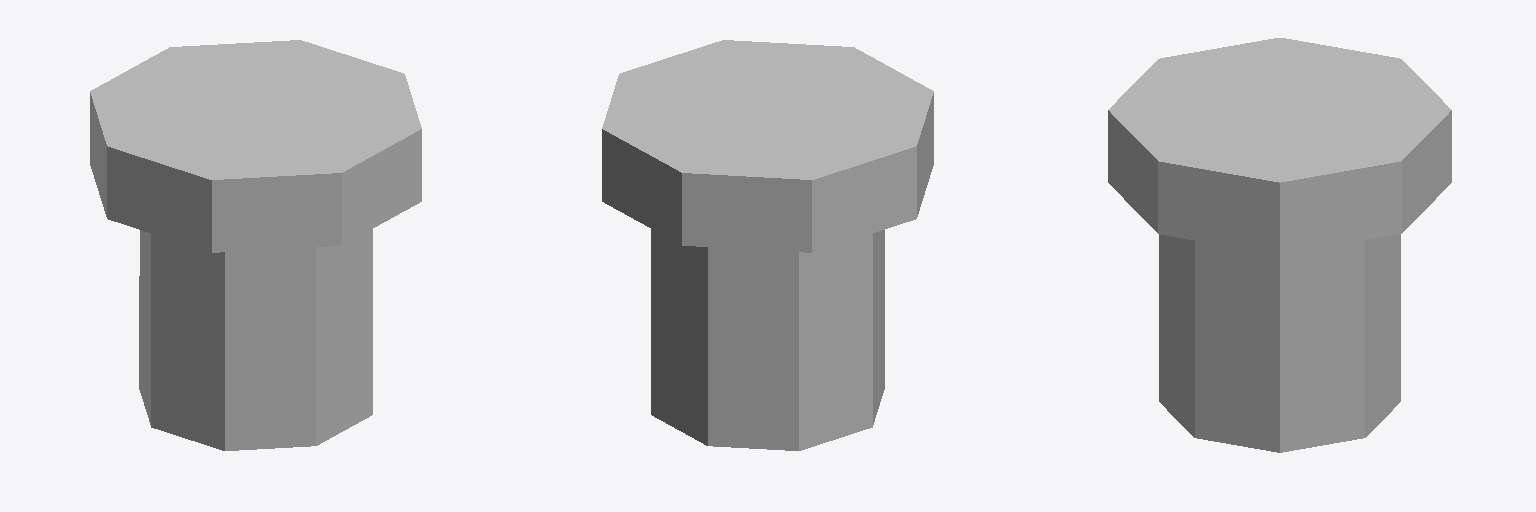
The model's file is test_cage.obj.
The picture shows the model from 3 angles: view 1: azimuth 30°, elevation 25°; view 2: azimuth 150°, elevation 25°; view 3: azimuth 270°, elevation 25°; orthographic projection.
Visible parts, largest first — view 1: Cylinder_cage_top_Cylinder.002, Cylinder_cage_bottom_Cylinder.003; view 2: Cylinder_cage_top_Cylinder.002, Cylinder_cage_bottom_Cylinder.003; view 3: Cylinder_cage_top_Cylinder.002, Cylinder_cage_bottom_Cylinder.003.
Boxes of the visible parts, x1,y1,x2,y2 form: Cylinder_cage_top_Cylinder.002: [90, 40, 421, 252]; Cylinder_cage_bottom_Cylinder.003: [139, 229, 372, 450]; Cylinder_cage_top_Cylinder.002: [602, 40, 933, 252]; Cylinder_cage_bottom_Cylinder.003: [651, 229, 884, 450]; Cylinder_cage_top_Cylinder.002: [1108, 38, 1451, 254]; Cylinder_cage_bottom_Cylinder.003: [1159, 234, 1400, 452].
Bounding box in the file's own units: 2.84 × 2.66 × 2.84.